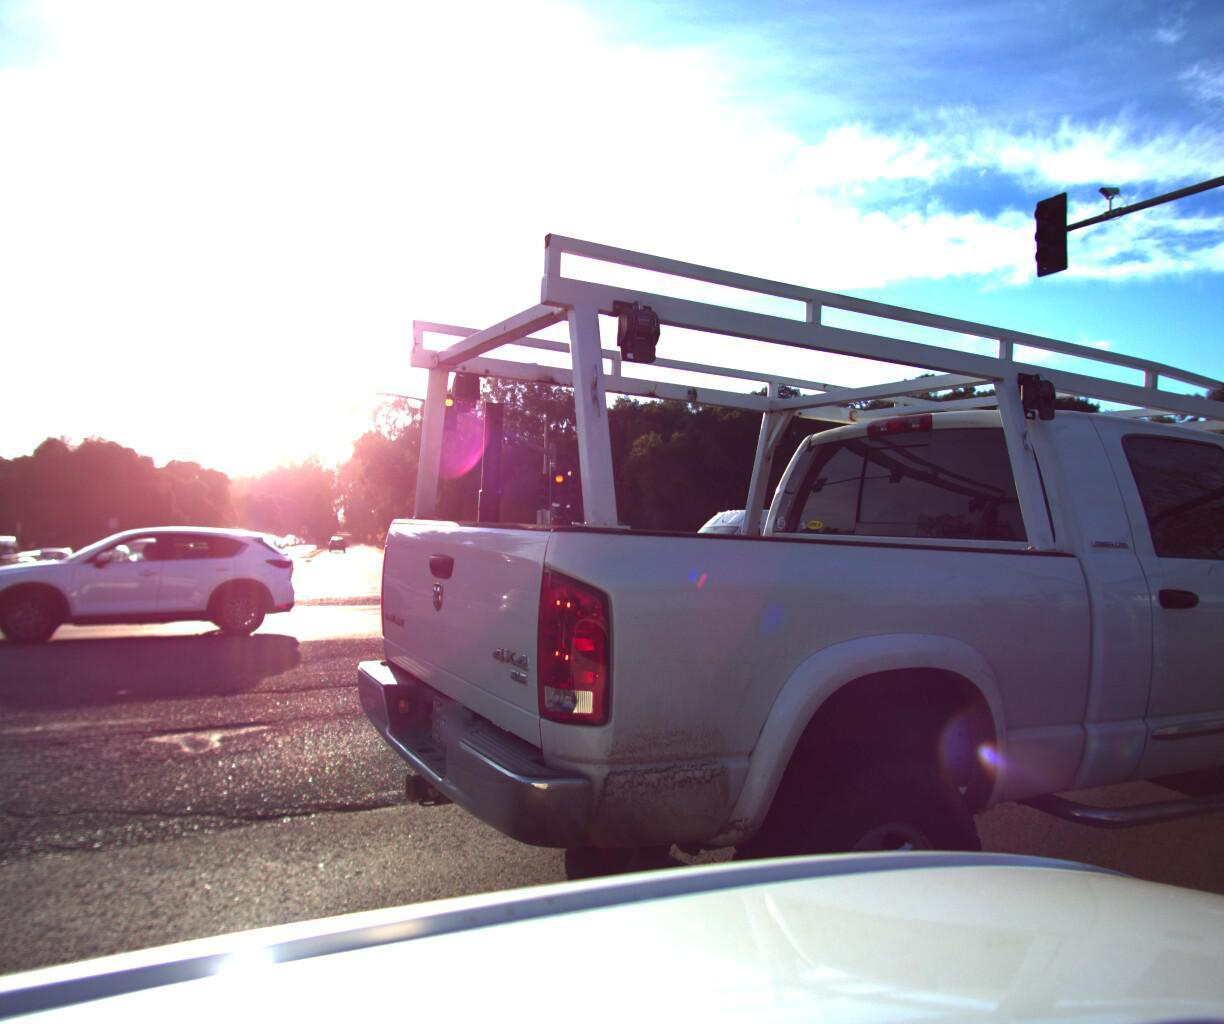car: (303, 173, 1224, 1024), (0, 513, 294, 653), (657, 501, 879, 607), (488, 535, 658, 602), (0, 534, 50, 603), (400, 542, 467, 578)
